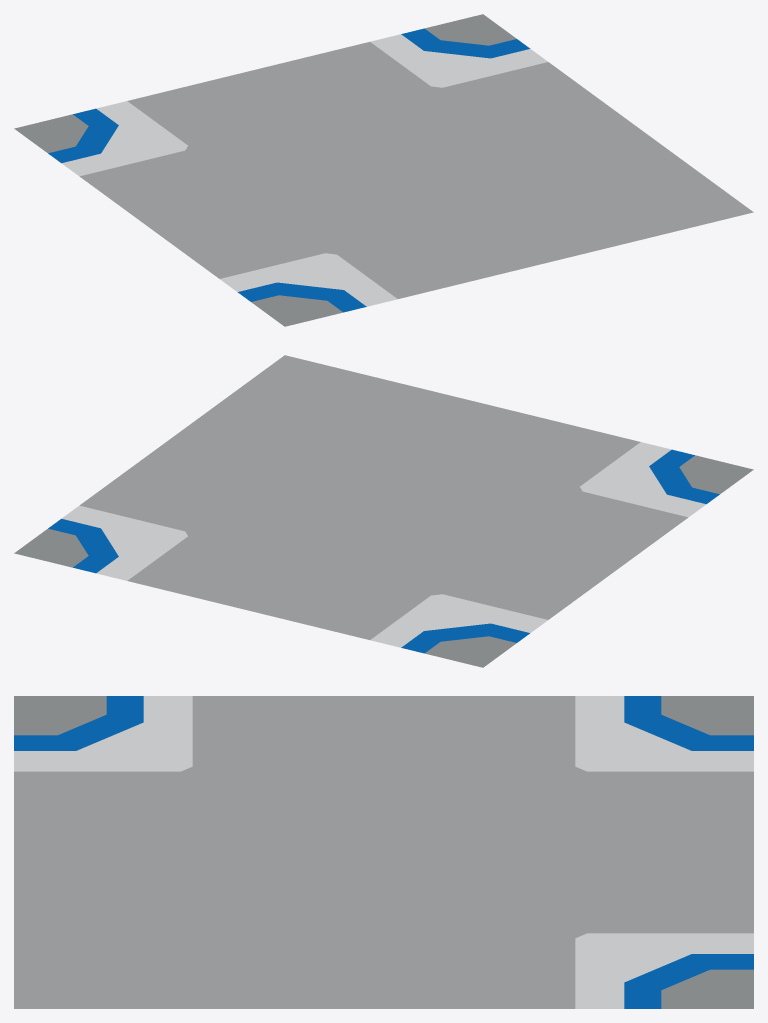
Rendered from Ceiling_type_A_028.fbx.
3 renders of one model, top to bottom at view 1: azimuth 30°, elevation 25°; view 2: azimuth 150°, elevation 25°; view 3: azimuth 270°, elevation 25°, orthographic. The views are drawn at different scales.
Visible parts, largest first — view 1: Ceiling_type_A_028; view 2: Ceiling_type_A_028; view 3: Ceiling_type_A_028.
Boxes of the visible parts, <box> form: Ceiling_type_A_028: <box>14,14,753,326</box>; Ceiling_type_A_028: <box>14,355,753,667</box>; Ceiling_type_A_028: <box>14,696,753,1008</box>.
Bounding box in the file's own units: 400 × 400 × 6.18.
